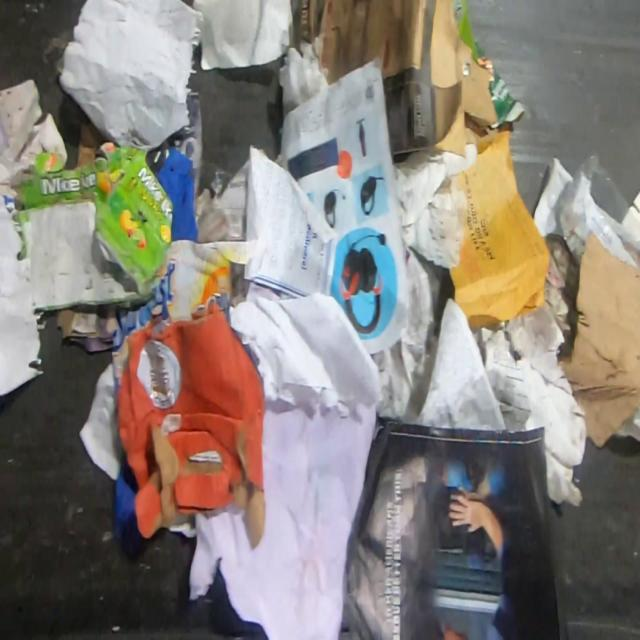cardboard: (114, 298, 266, 552), (298, 0, 498, 159), (10, 140, 176, 310), (556, 227, 640, 448), (473, 40, 526, 128)
soft_plastic: (554, 151, 640, 267)
